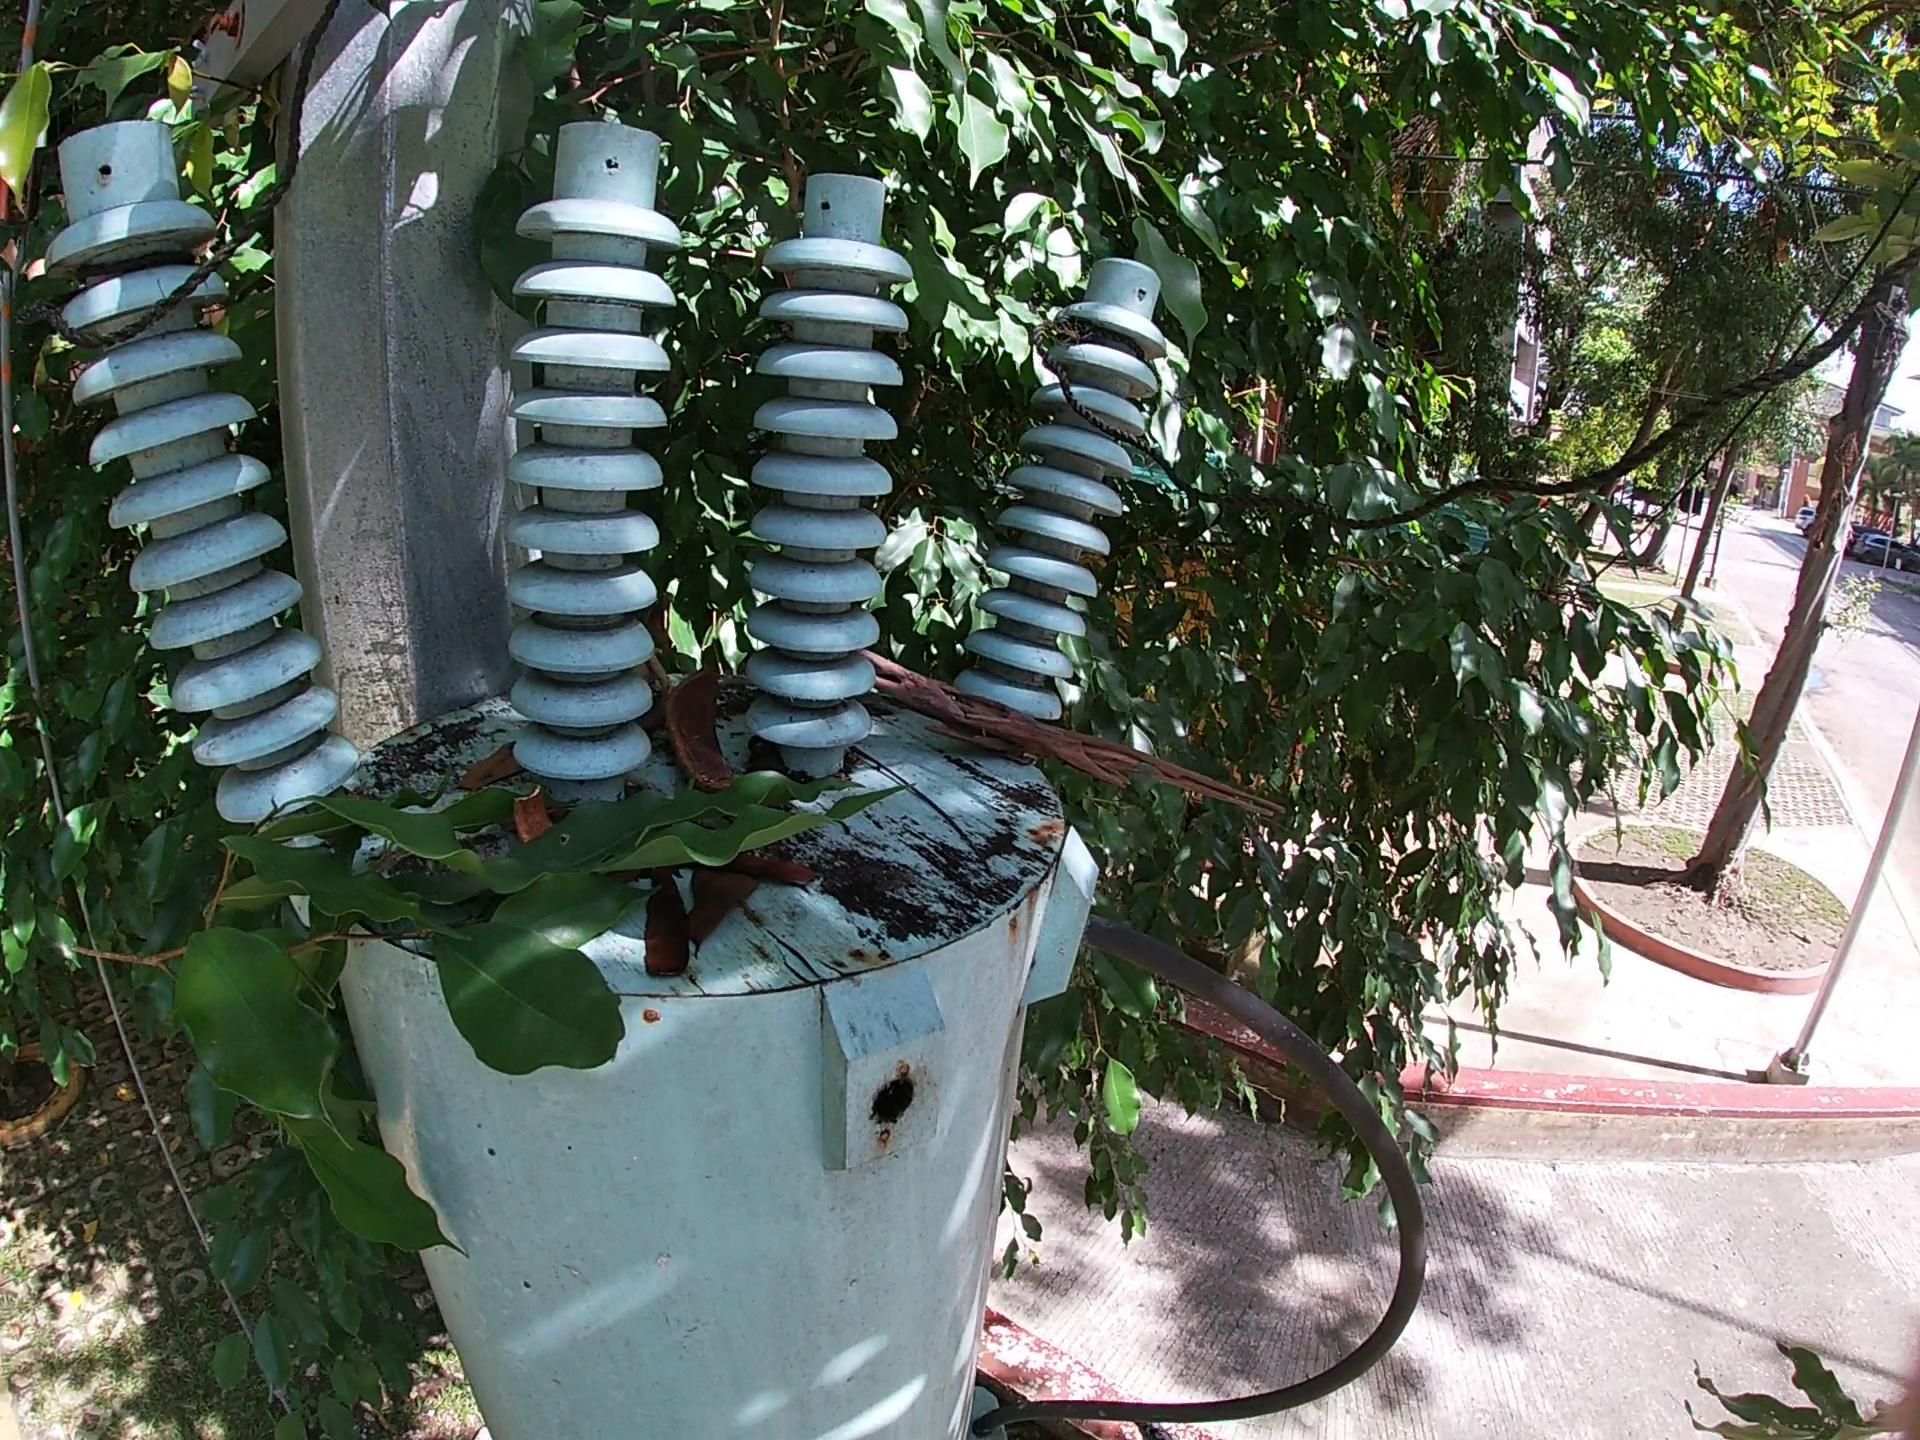branch with leaves: (44, 759, 925, 1268)
leaf: (686, 867, 757, 964), (639, 867, 695, 988), (441, 738, 534, 799), (717, 852, 819, 895)
mahogany fruit: (659, 663, 742, 793), (509, 784, 556, 843)
tree branch: (856, 641, 1293, 824)
